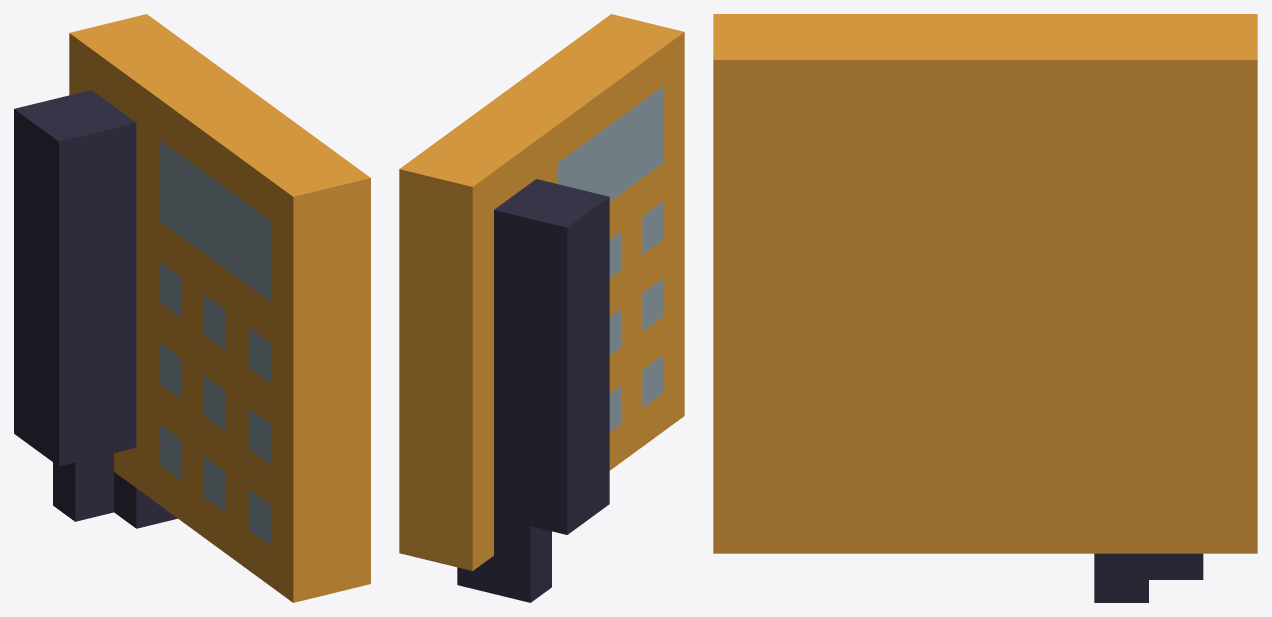
Rendered from Player House-0-phone.obj.
3 views of the same model, side by side, from view 1: azimuth 30°, elevation 25°; view 2: azimuth 150°, elevation 25°; view 3: azimuth 270°, elevation 25° (orthographic). The views are drawn at different scales.
Visible parts, largest first — view 1: phone; view 2: phone; view 3: phone.
Part boxes in pixels (x1,y1,x2,y2): phone: (14,14,370,602); phone: (399,14,684,602); phone: (713,14,1257,602).
Size of the model in its own units: 0.4 by 1.1 by 1.
Materials: 1 (1 with a texture image).
